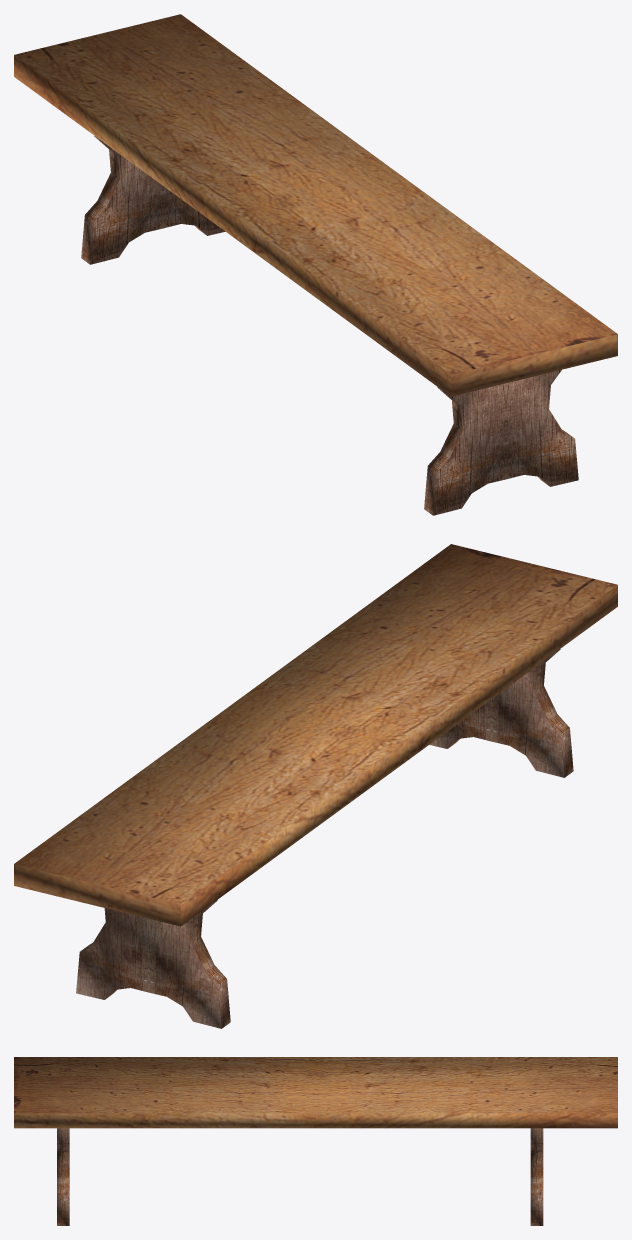
Rendered from Bench_rough.fbx.
3 views of the same model, one above another, from view 1: azimuth 30°, elevation 25°; view 2: azimuth 150°, elevation 25°; view 3: azimuth 270°, elevation 25° (orthographic). The views are drawn at different scales.
Parts seen in each view (by area): view 1: WorkTable.001; view 2: WorkTable.001; view 3: WorkTable.001.
Boxes of the visible parts, <box> form: WorkTable.001: <box>14,14,617,515</box>; WorkTable.001: <box>14,544,617,1028</box>; WorkTable.001: <box>14,1057,617,1225</box>.
Size of the model in its own units: 37.75 by 36.1 by 171.
